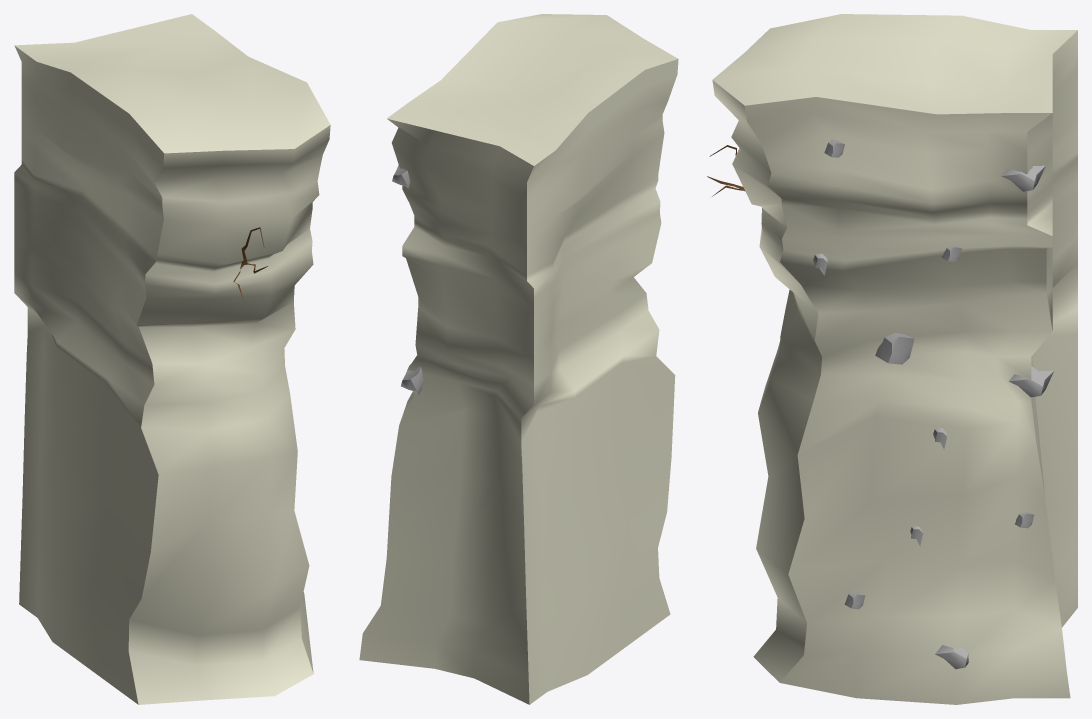
Rendered from Clifs2_scenario.fbx.
3 views of the same model, side by side, from view 1: azimuth 30°, elevation 25°; view 2: azimuth 150°, elevation 25°; view 3: azimuth 270°, elevation 25° (orthographic). The views are drawn at different scales.
Parts seen in each view (by area): view 1: pCube180; view 2: pCube180; view 3: pCube180.
Boxes of the visible parts, <box> form: pCube180: <box>14,14,330,704</box>; pCube180: <box>359,14,678,704</box>; pCube180: <box>707,14,1077,704</box>.
Size of the model in its own units: 23.47 by 60.99 by 34.64.
